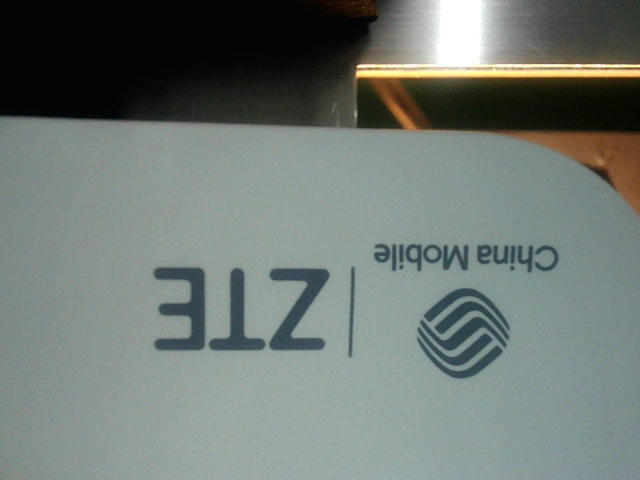AL_ZTEChinaMobile: (146, 222, 587, 380)
